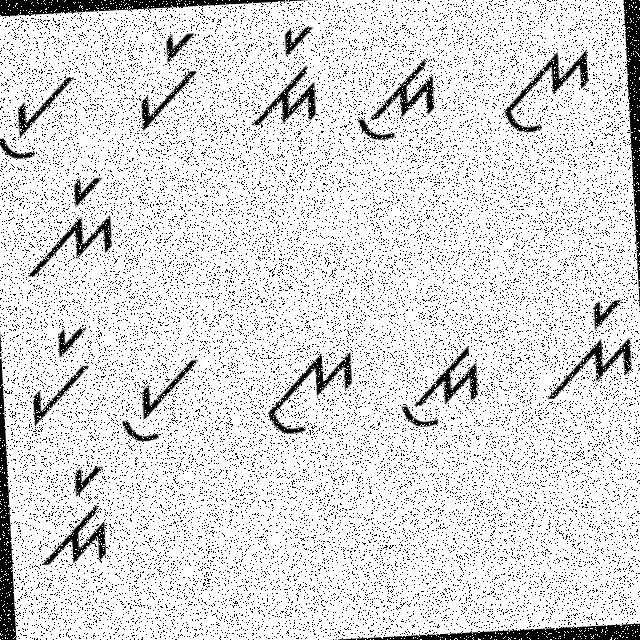dar: (236, 21, 334, 130), (32, 457, 117, 571)
daw: (388, 339, 491, 442), (350, 45, 444, 154)
nar: (533, 288, 638, 409), (19, 175, 119, 288)
naw: (483, 35, 600, 142), (247, 344, 368, 436)
par: (115, 29, 214, 139), (16, 320, 100, 428)
paw: (109, 348, 208, 447), (0, 66, 85, 163)
